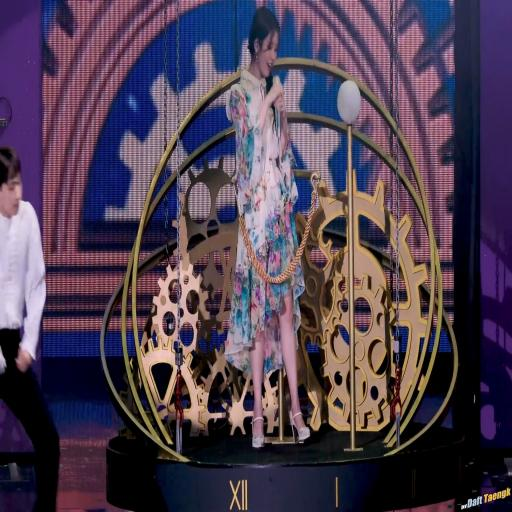IU: (248, 8, 280, 80)
